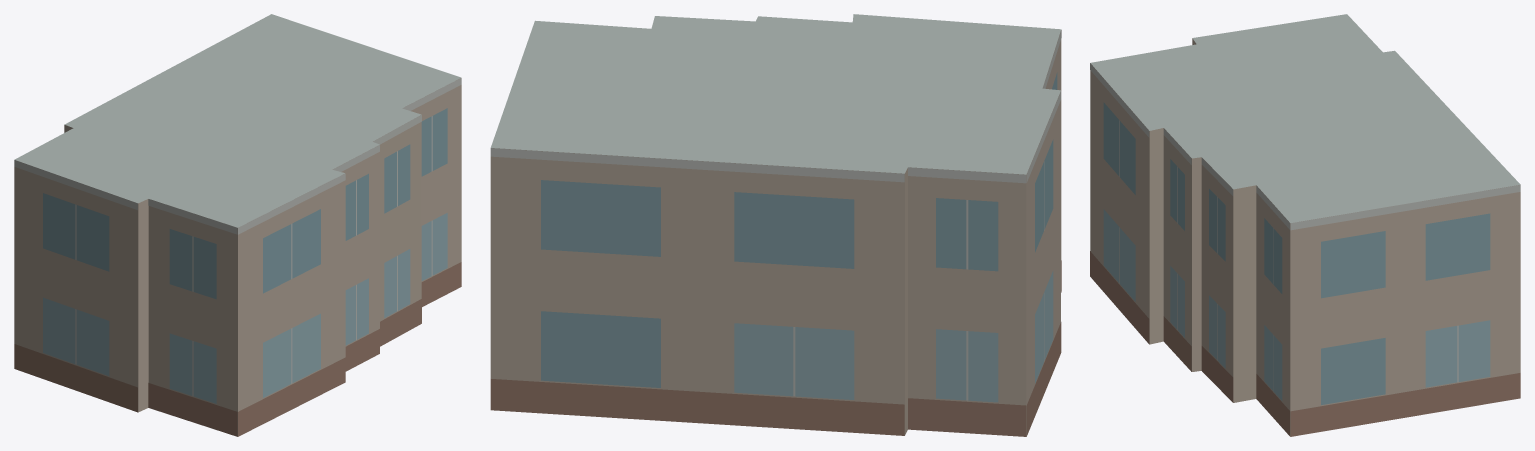
File: survey-upis-32495078.glb
The picture shows the model from 3 angles, left to right: view 1: azimuth 30°, elevation 25°; view 2: azimuth 150°, elevation 25°; view 3: azimuth 270°, elevation 25°; orthographic projection. The views are drawn at different scales.
Visible parts, largest first — view 1: survey-upis-32495078.tmp; view 2: survey-upis-32495078.tmp; view 3: survey-upis-32495078.tmp.
Boxes of the visible parts, box(x1,y1,x2,y2) form: survey-upis-32495078.tmp: box(14, 14, 461, 436); survey-upis-32495078.tmp: box(490, 14, 1061, 436); survey-upis-32495078.tmp: box(1090, 14, 1520, 436).
Size of the model in its own units: 15.34 by 7.3 by 13.34.
